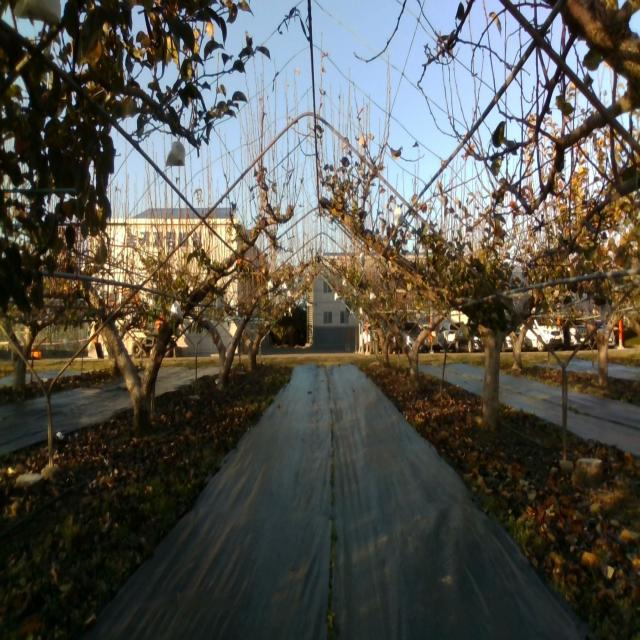pearbags: (165, 141, 186, 168), (391, 204, 405, 228), (170, 300, 183, 322)
